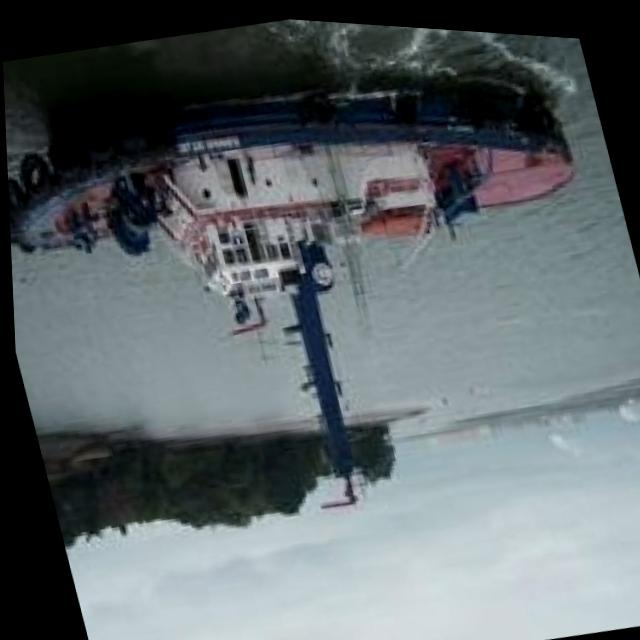ship2: (6, 74, 575, 504)
